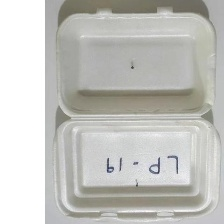foam_box: (47, 3, 224, 224)
